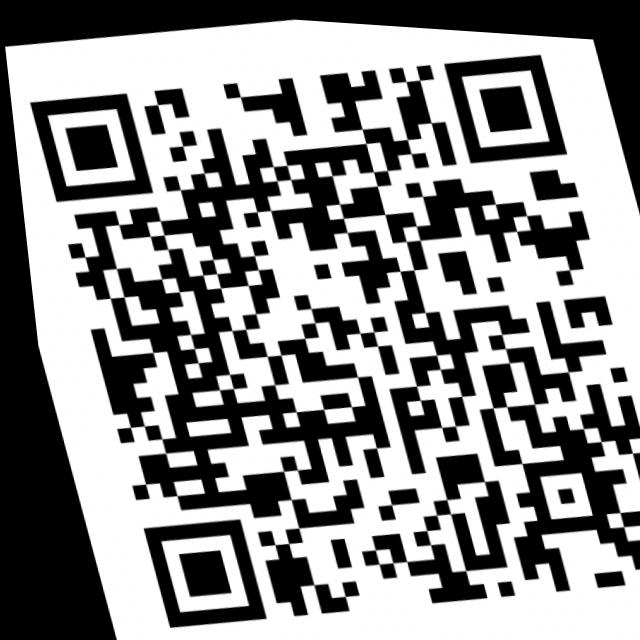QR_CODE: (4, 3, 640, 640)
